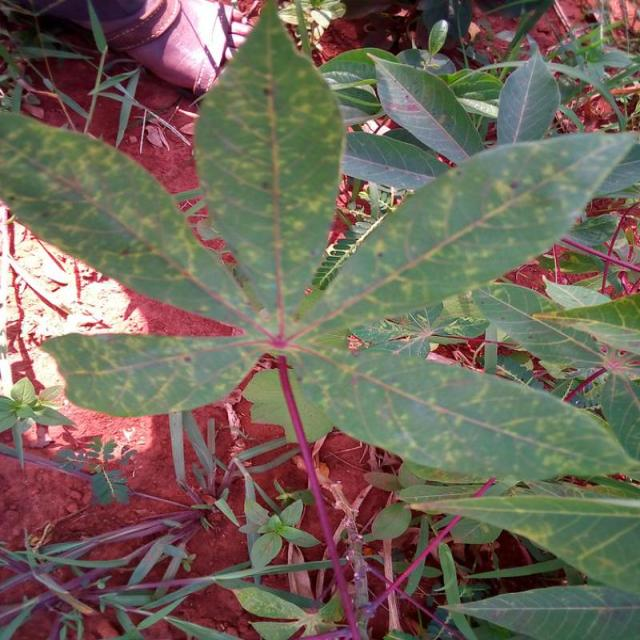cassava leaf: (194, 0, 347, 318)
